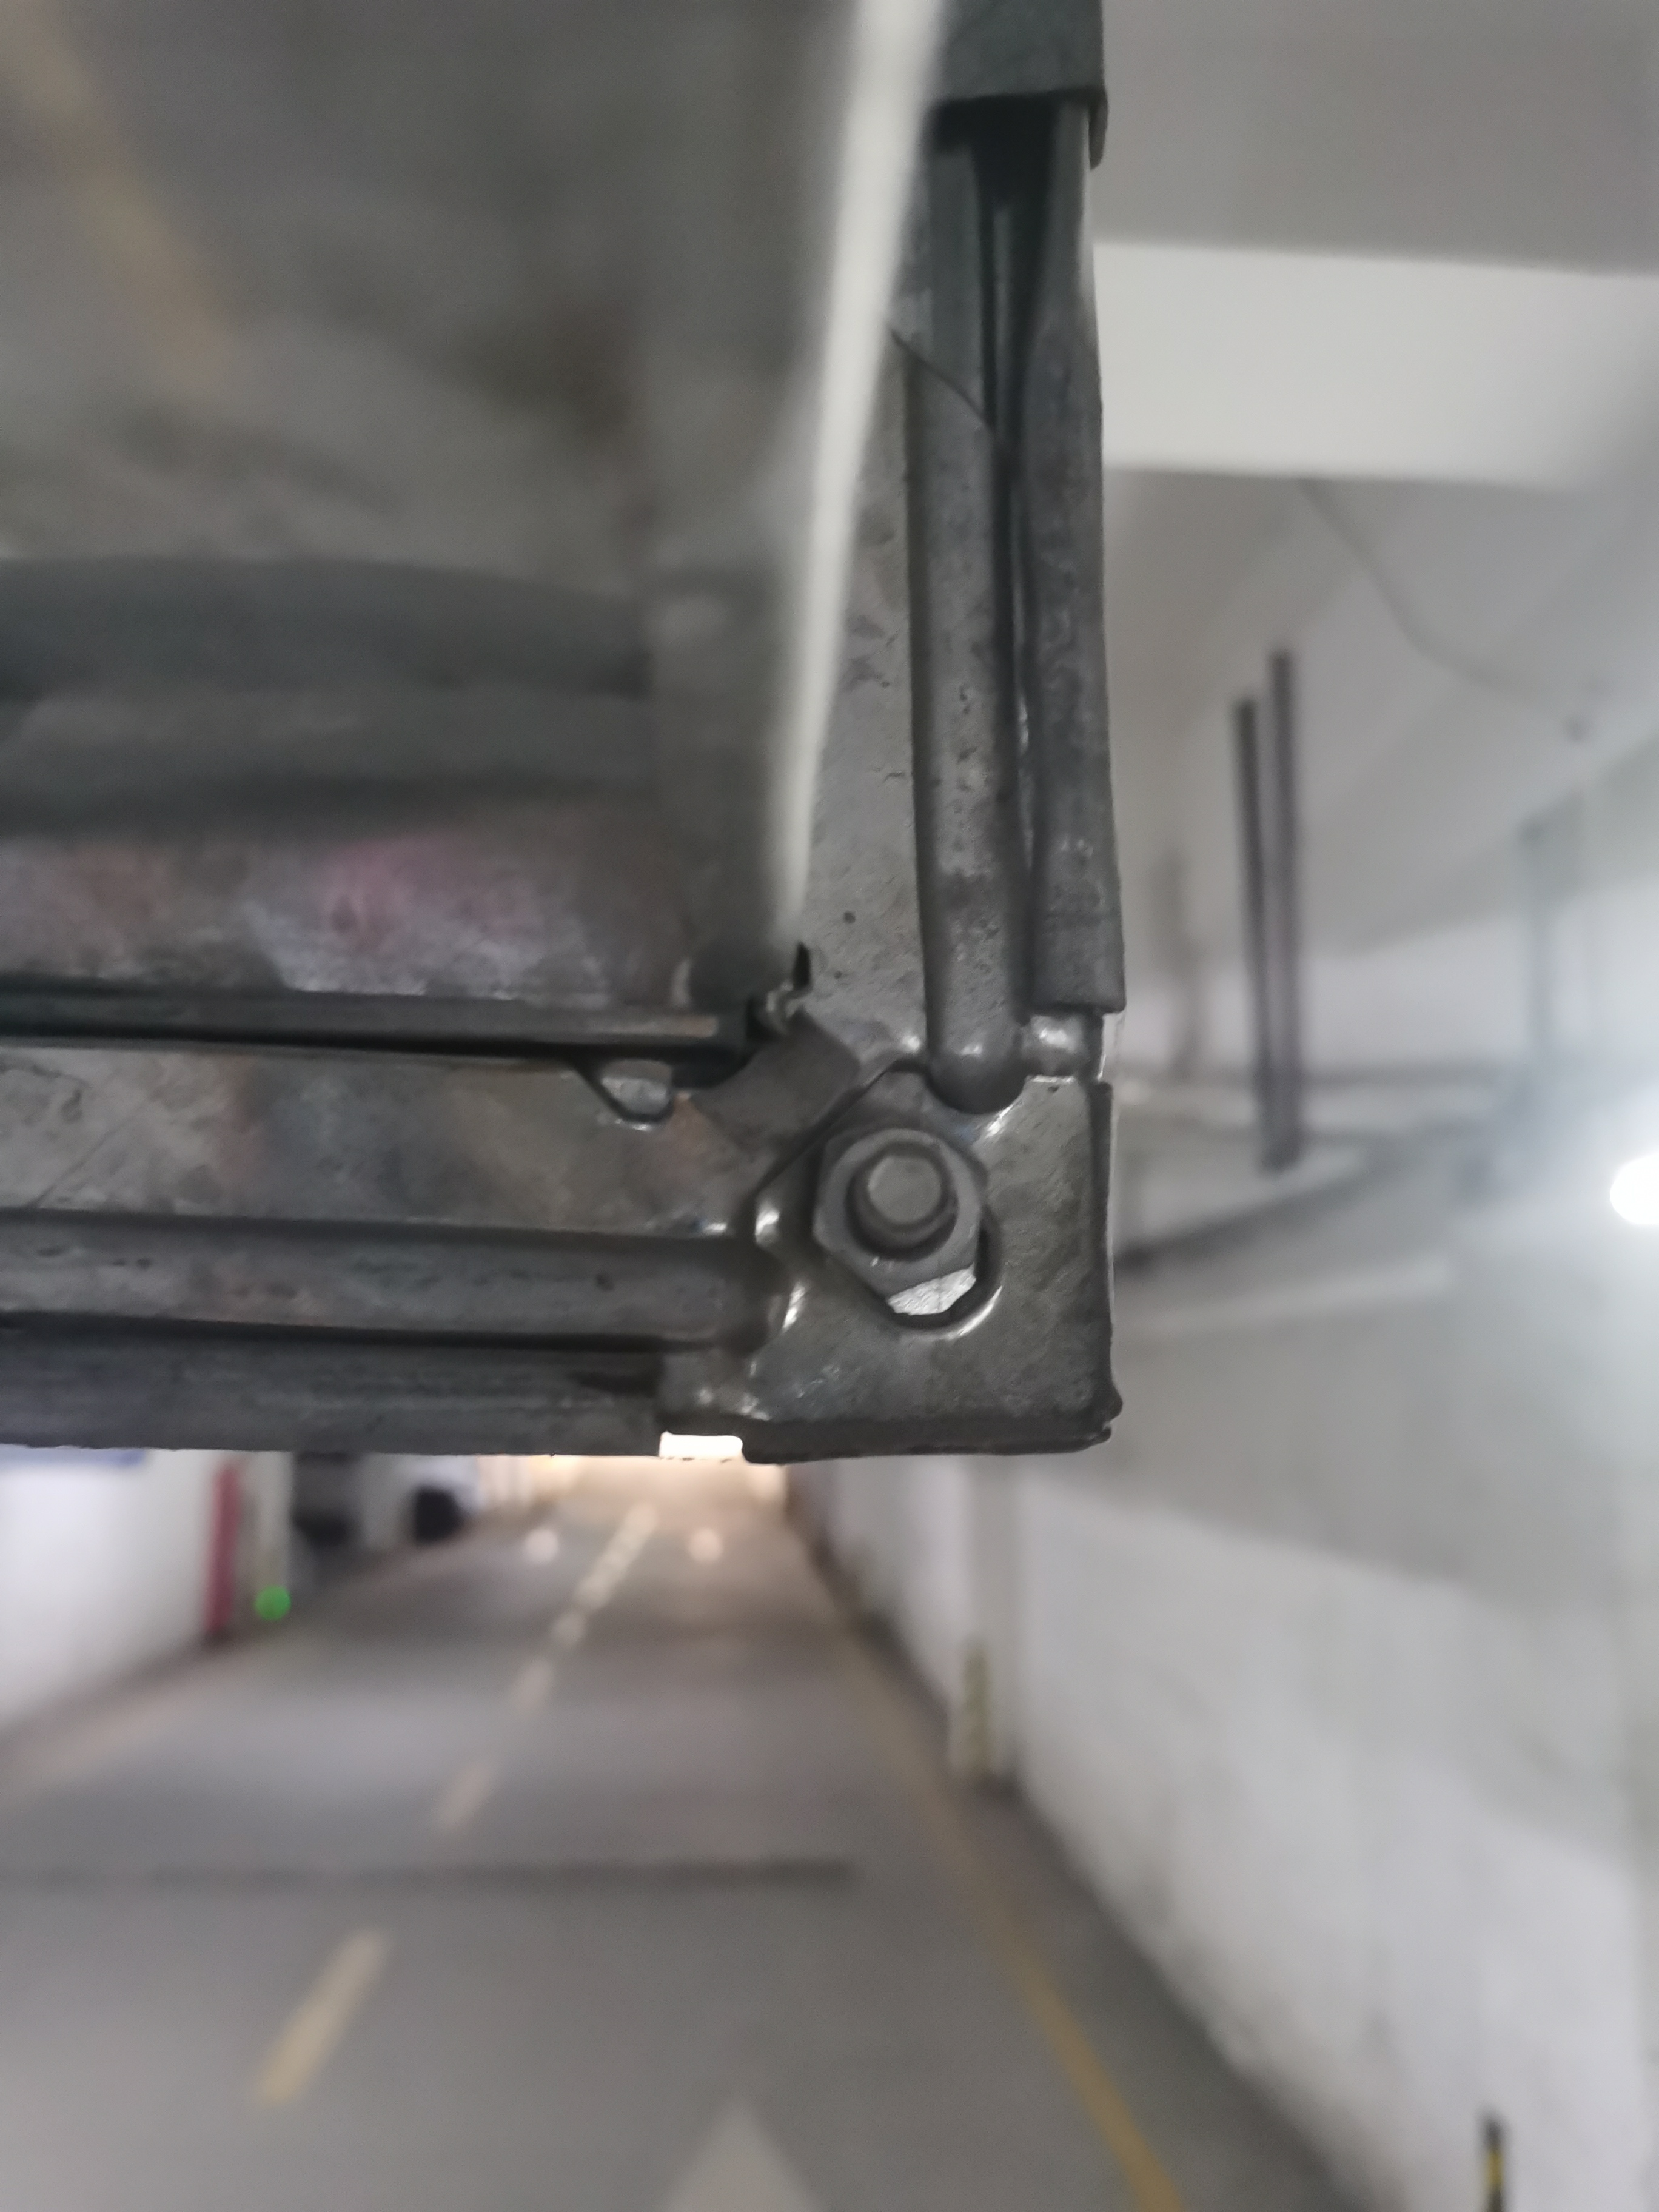bolt_b: (805, 1109, 992, 1310)
